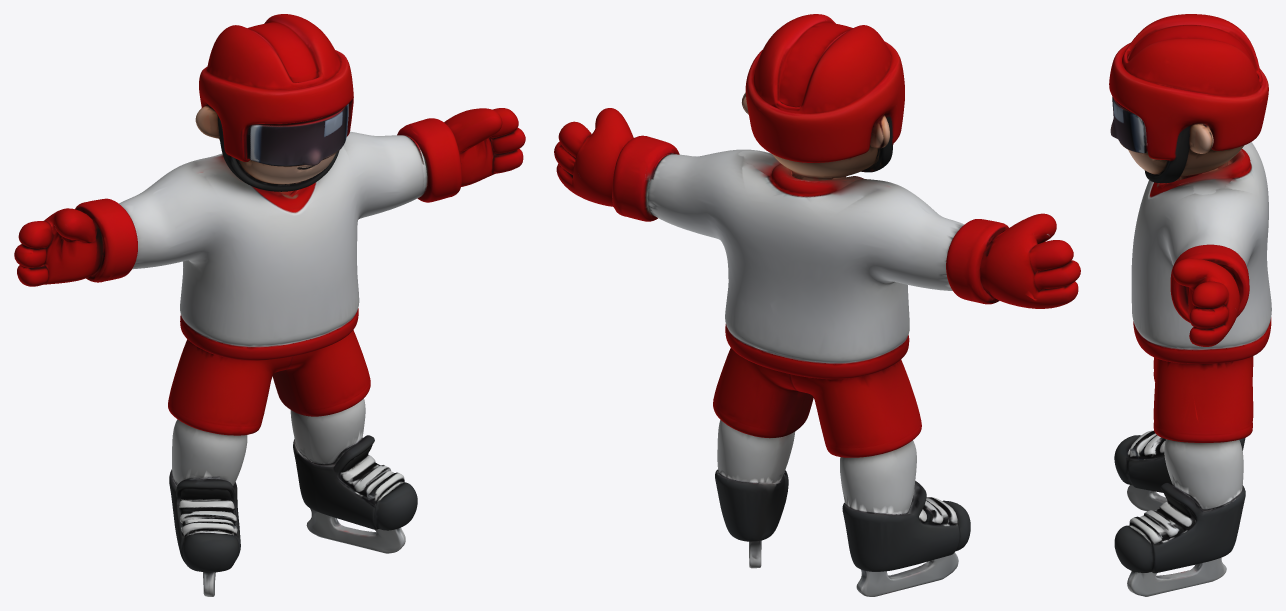
Rendered from hunyuan-v31-skater-tpose.glb.
3 views of the same model, side by side, from view 1: azimuth 30°, elevation 25°; view 2: azimuth 150°, elevation 25°; view 3: azimuth 270°, elevation 25° (orthographic). The views are drawn at different scales.
Visible parts, largest first — view 1: node_0; view 2: node_0; view 3: node_0.
Boxes of the visible parts, box(x1,y1,x2,y2) form: node_0: box(14, 14, 525, 596); node_0: box(554, 14, 1080, 596); node_0: box(1109, 14, 1271, 596).
Bounding box in the file's own units: 1.12 × 1.12 × 0.3141.
Materials: 1 (1 with a texture image).
